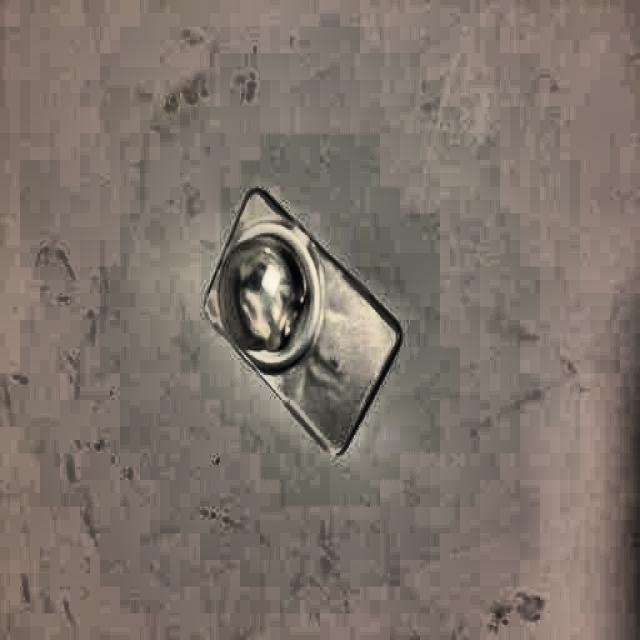trash: (202, 189, 407, 455)
